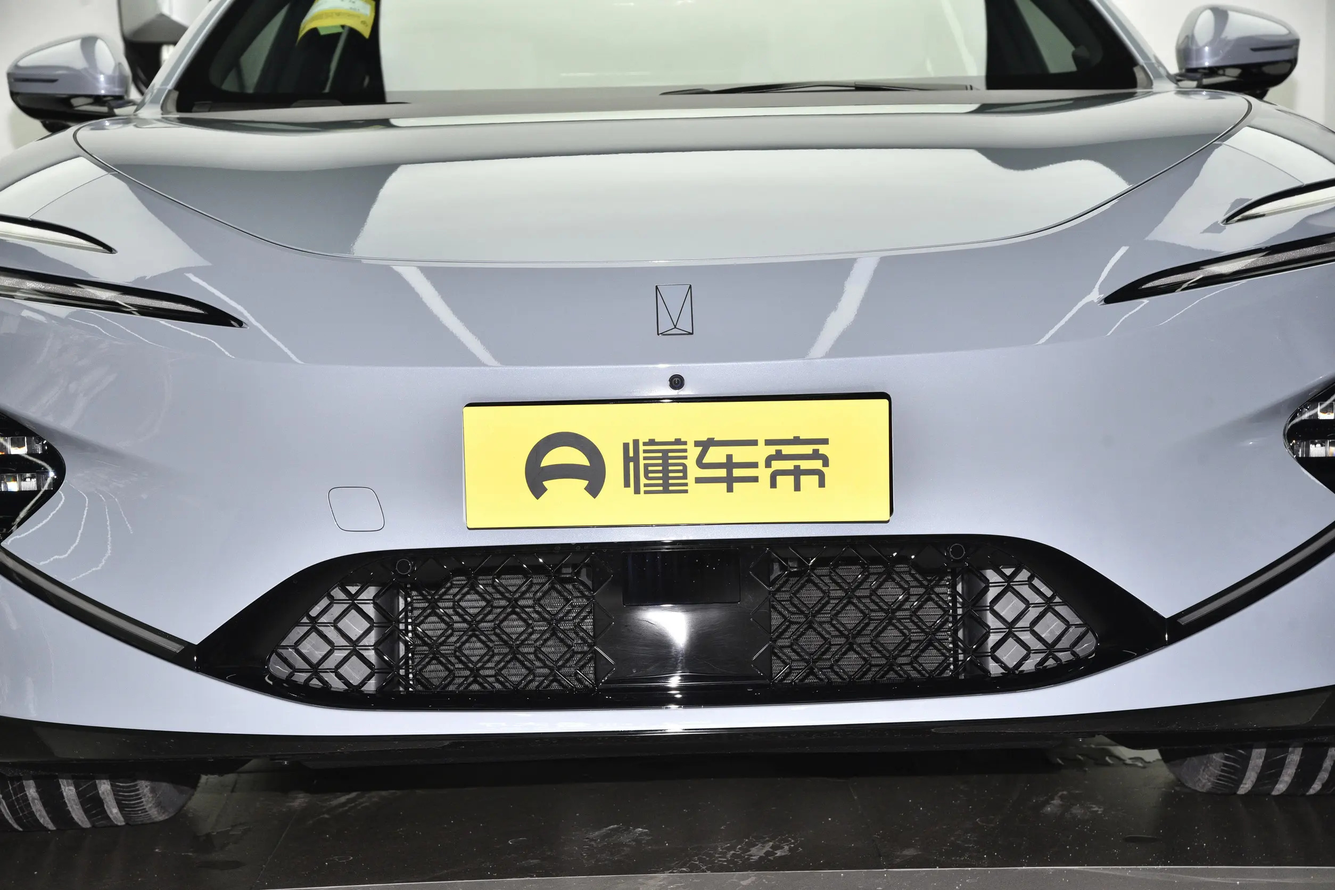AVATR: (655, 284, 694, 335)
